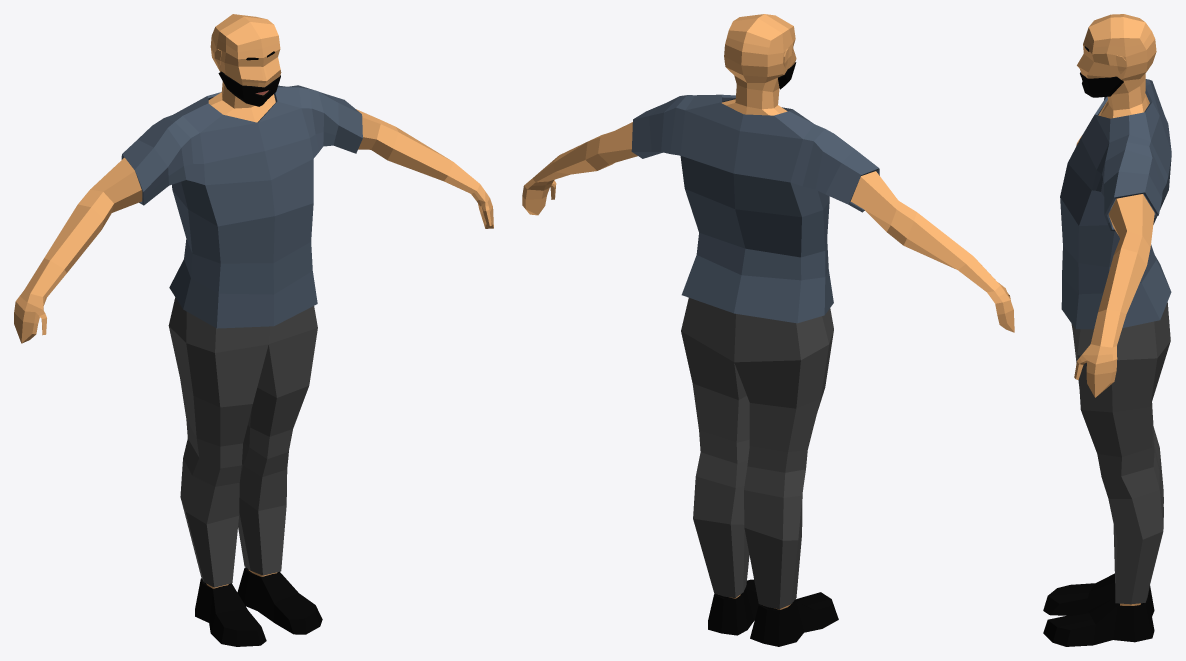
The model's file is Npc9.fbx.
3 views of the same model, side by side, from view 1: azimuth 30°, elevation 25°; view 2: azimuth 150°, elevation 25°; view 3: azimuth 270°, elevation 25° (orthographic). The views are drawn at different scales.
Parts seen in each view (by area): view 1: Body.008; view 2: Body.008; view 3: Body.008.
Part boxes in pixels (x1,y1,x2,y2): Body.008: [14, 14, 493, 646]; Body.008: [522, 14, 1014, 646]; Body.008: [1043, 14, 1171, 646].
Size of the model in its own units: 537 by 646 by 124.
